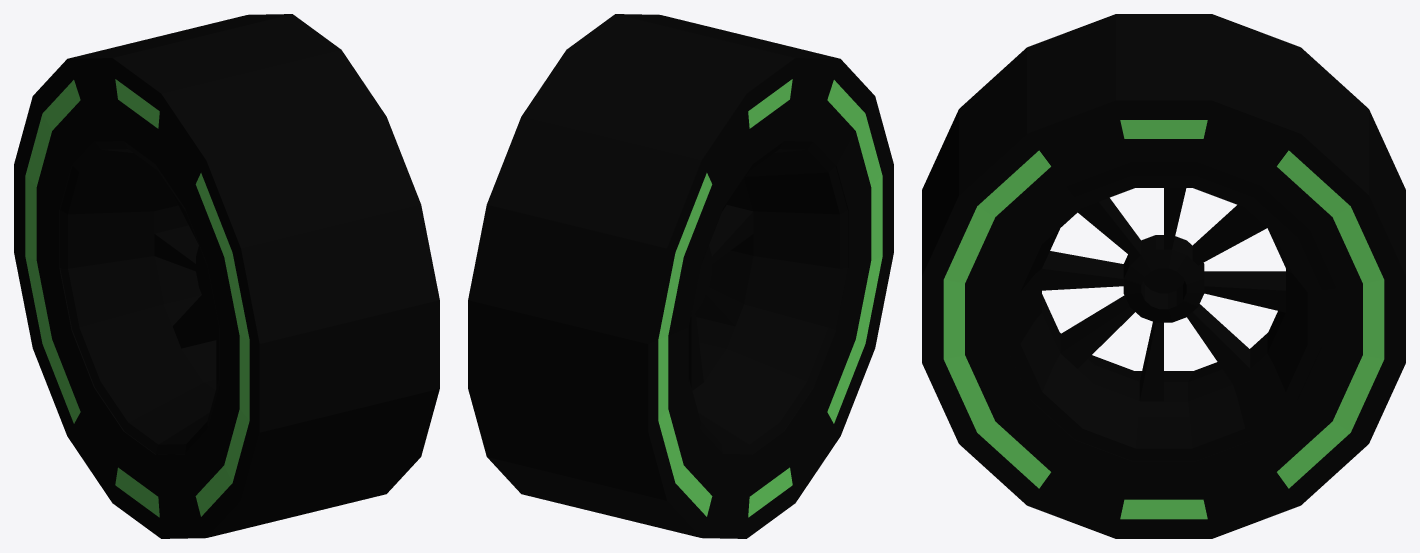
Rendered from front-tyre.glb.
3 renders of one model, left to right at view 1: azimuth 30°, elevation 25°; view 2: azimuth 150°, elevation 25°; view 3: azimuth 270°, elevation 25°, orthographic.
Visible parts, largest first — view 1: Tyre; view 2: Tyre; view 3: Tyre.
Boxes of the visible parts, x1,y1,x2,y2 form: Tyre: (14, 14, 439, 538); Tyre: (468, 14, 893, 538); Tyre: (922, 14, 1405, 538).
Size of the model in its own units: 0.305 by 0.72 by 0.72.
